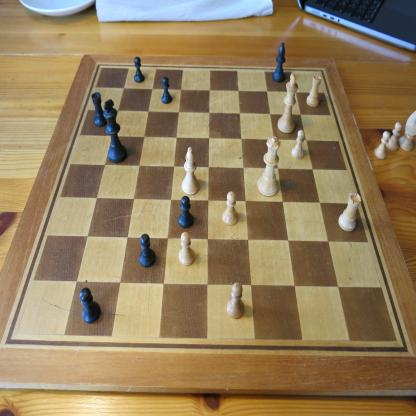black-bishop: (272, 42, 286, 83)
black-king: (103, 98, 128, 164)
black-pawn: (79, 287, 102, 324), (139, 233, 156, 268), (178, 195, 194, 229), (161, 76, 173, 105), (134, 56, 144, 84)
black-rook: (91, 91, 107, 128)
white-bishop: (181, 146, 200, 196)
white-king: (277, 72, 299, 134)
white-pawn: (226, 282, 245, 320), (178, 231, 196, 267), (222, 191, 239, 227), (373, 130, 391, 161), (385, 122, 403, 152), (291, 130, 306, 160)
white-queen: (257, 136, 281, 198)
white-rook: (337, 192, 362, 232), (306, 74, 322, 108)
